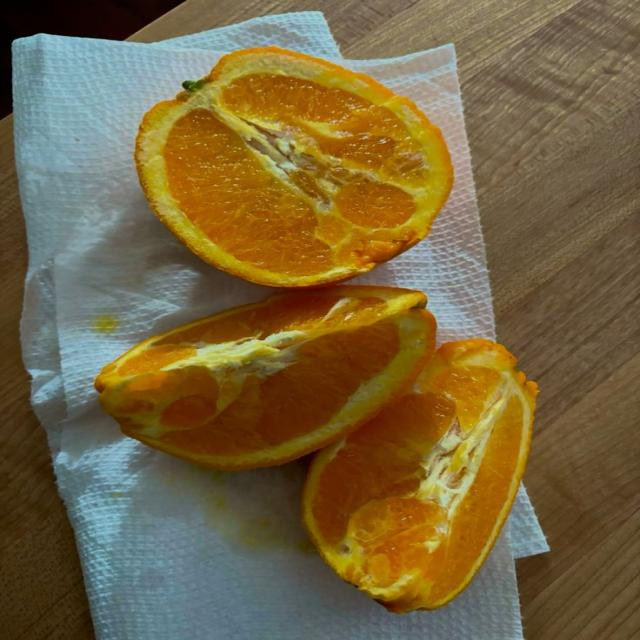orange: (135, 47, 453, 287), (303, 340, 536, 612), (96, 286, 435, 469)
